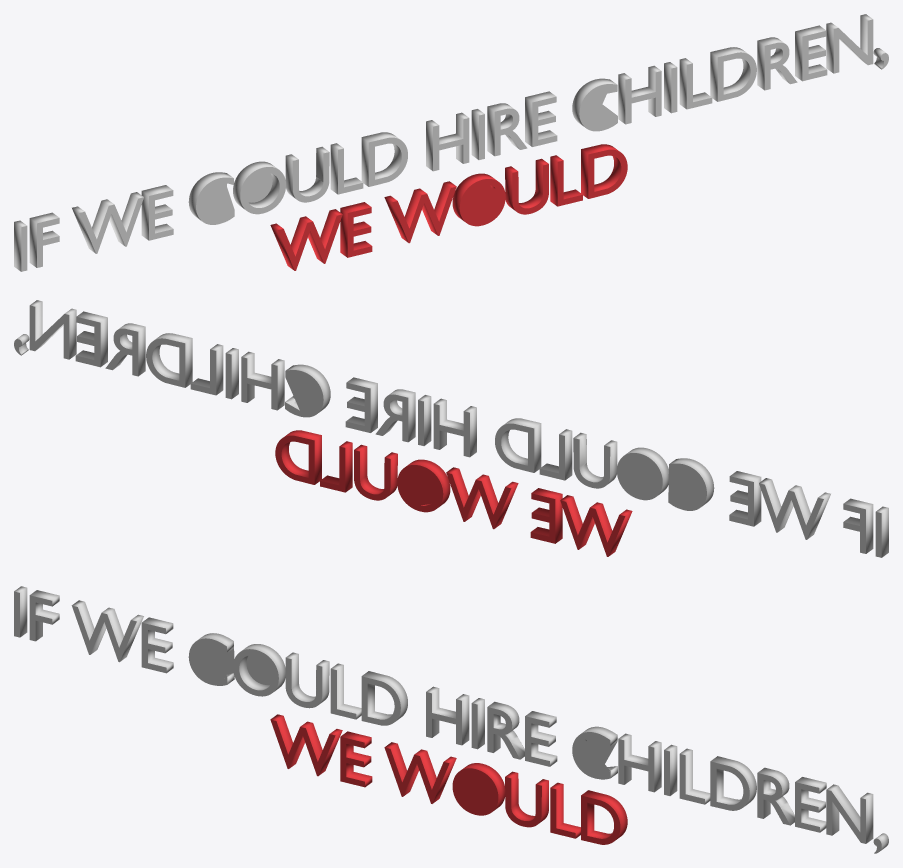
The model's file is IfWeCouldHireChildrenWeWould.fbx.
The picture shows the model from 3 angles, top to bottom: view 1: azimuth 30°, elevation 25°; view 2: azimuth 150°, elevation 25°; view 3: azimuth 330°, elevation 25°; orthographic projection.
Visible parts, largest first — view 1: Hire Children, We Would; view 2: Hire Children, We Would; view 3: Hire Children, We Would.
Boxes of the visible parts, bbox=[...] form: Hire Children: bbox=[14, 14, 888, 271]; We Would: bbox=[270, 144, 627, 270]; Hire Children: bbox=[14, 300, 888, 557]; We Would: bbox=[275, 430, 632, 556]; Hire Children: bbox=[14, 586, 888, 853]; We Would: bbox=[270, 714, 627, 844].
Bounding box in the file's own units: 1385 × 170 × 20.
